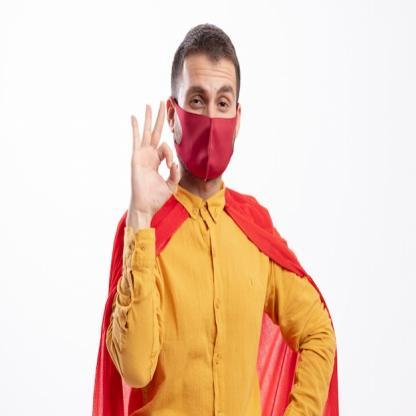ok: (128, 98, 181, 223)
